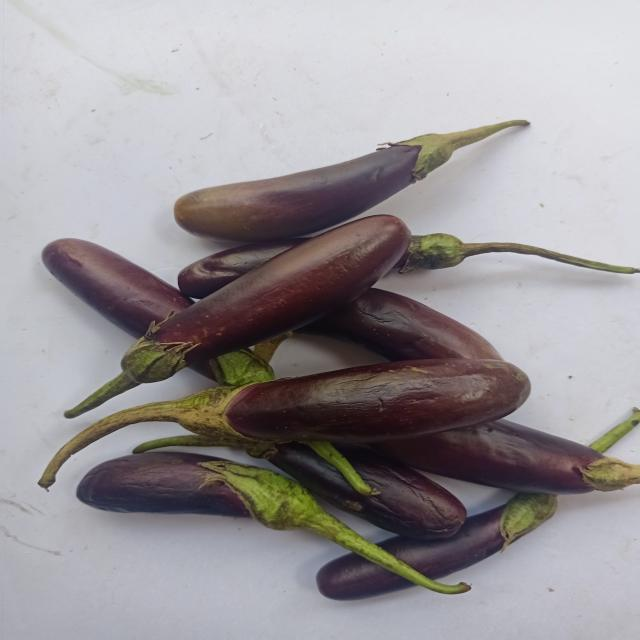Brinjal: (58, 211, 419, 427), (31, 354, 534, 496), (73, 447, 479, 597), (172, 112, 543, 244), (313, 490, 574, 609)
